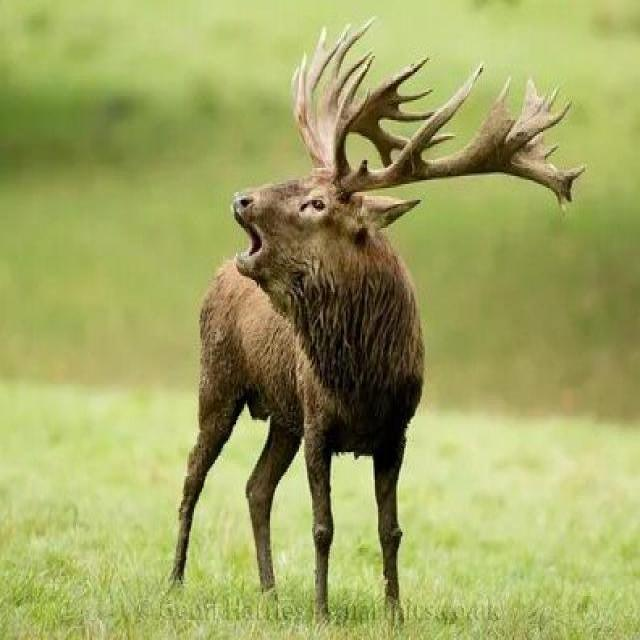deer: (144, 37, 556, 588)
